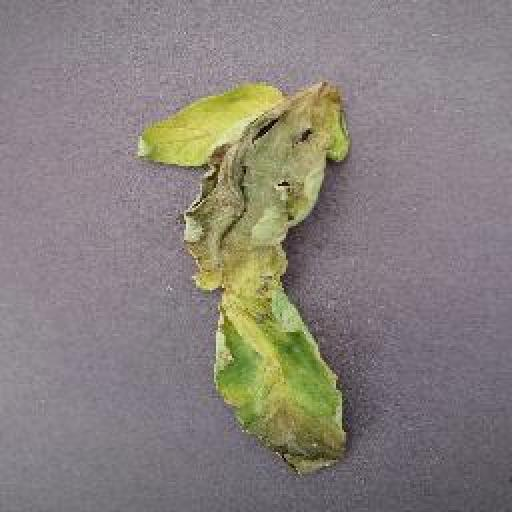disease_tomato: (132, 78, 352, 482)
